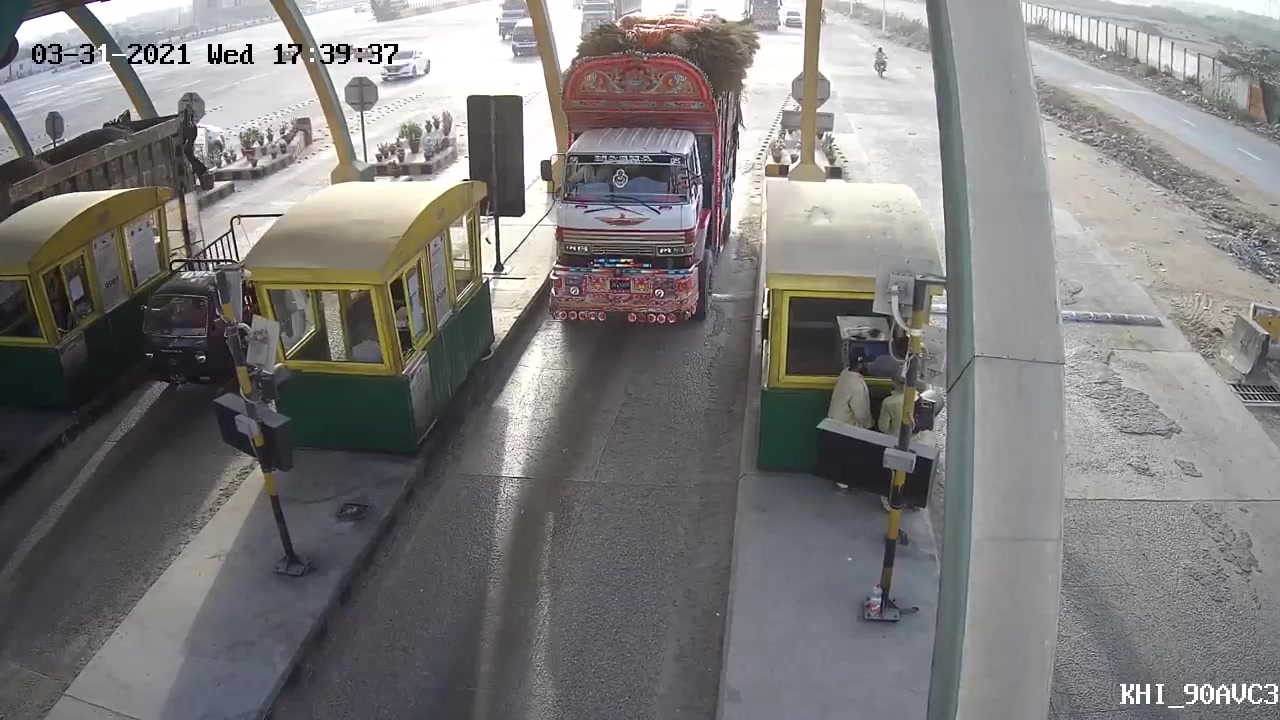F5: (525, 2, 768, 342)
